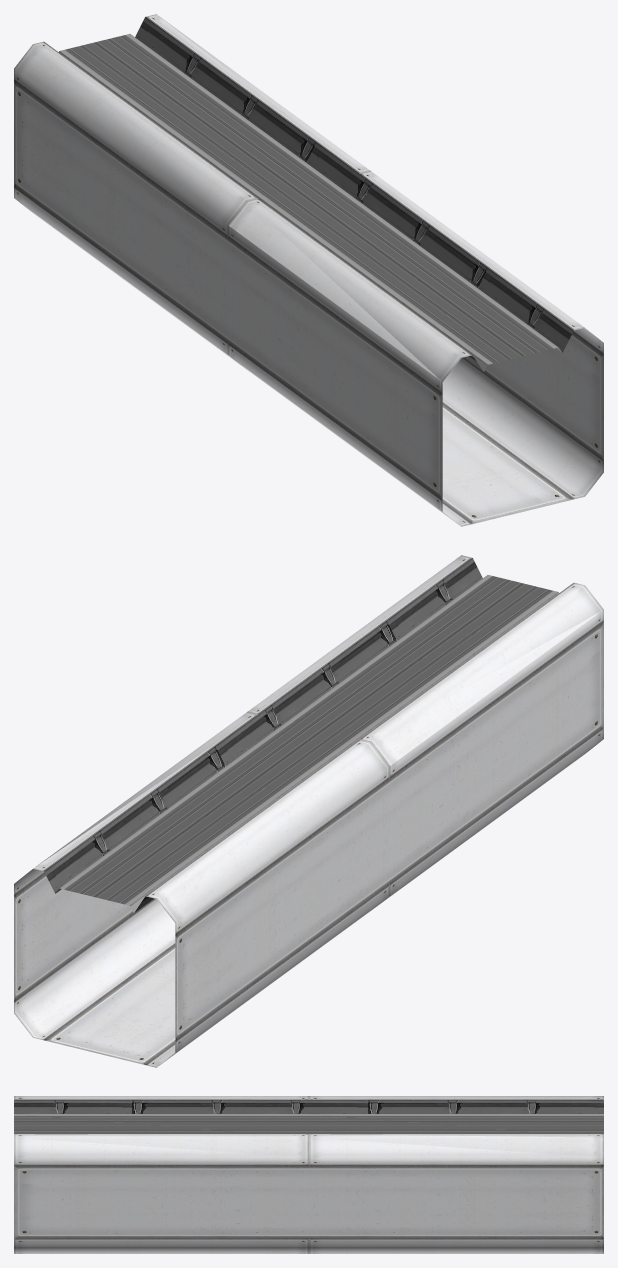
Rendered from GroundBrace_1x6capped.FBX.
3 renders of one model, top to bottom at view 1: azimuth 30°, elevation 25°; view 2: azimuth 150°, elevation 25°; view 3: azimuth 270°, elevation 25°, orthographic. The views are drawn at different scales.
Visible parts, largest first — view 1: GroundBrace_1x6capped; view 2: GroundBrace_1x6capped; view 3: GroundBrace_1x6capped.
Part boxes in pixels (left/top/right/bottom): GroundBrace_1x6capped: left=14, top=14, right=603, bottom=526; GroundBrace_1x6capped: left=14, top=555, right=603, bottom=1067; GroundBrace_1x6capped: left=14, top=1096, right=603, bottom=1253.
Bounding box in the file's own units: 1.3 × 1.3 × 6.
